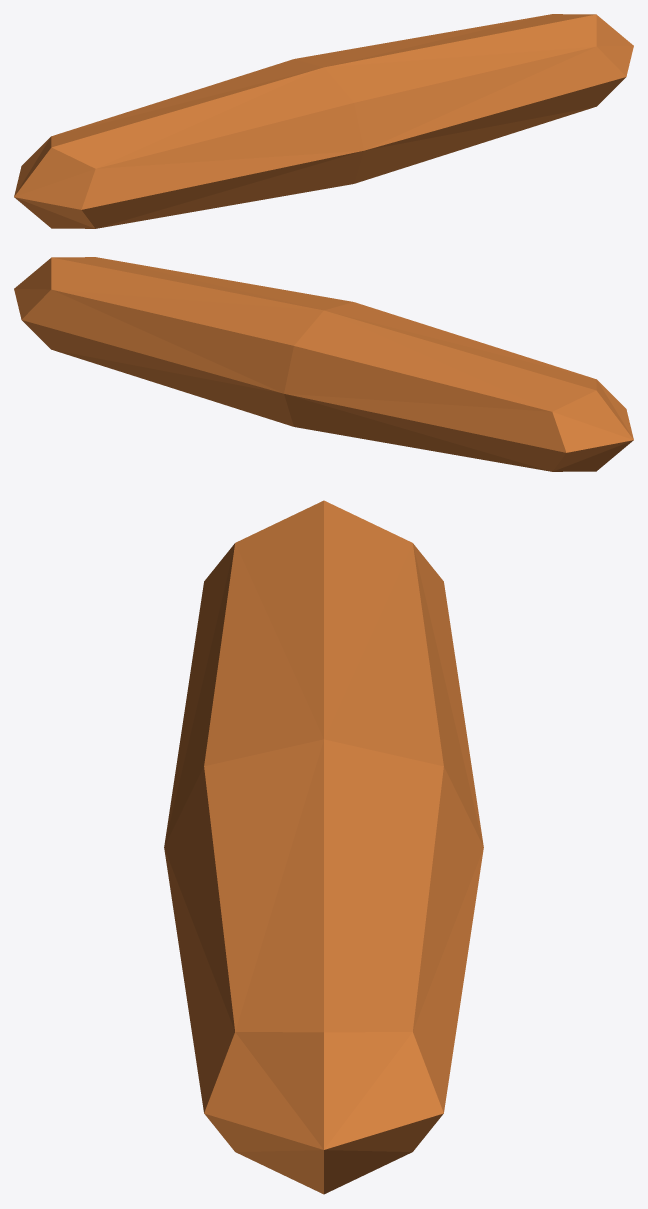
Rendered from bread.dae.
The picture shows the model from 3 angles, top to bottom: view 1: azimuth 30°, elevation 25°; view 2: azimuth 150°, elevation 25°; view 3: azimuth 270°, elevation 25°; orthographic projection. The views are drawn at different scales.
Visible parts, largest first — view 1: Bread; view 2: Bread; view 3: Bread.
Boxes of the visible parts, left/top/right/bottom form: Bread: left=14, top=14, right=633, bottom=228; Bread: left=14, top=257, right=633, bottom=471; Bread: left=164, top=500, right=483, bottom=1194.
Size of the model in its own units: 0.3 by 0.067 by 0.05.
